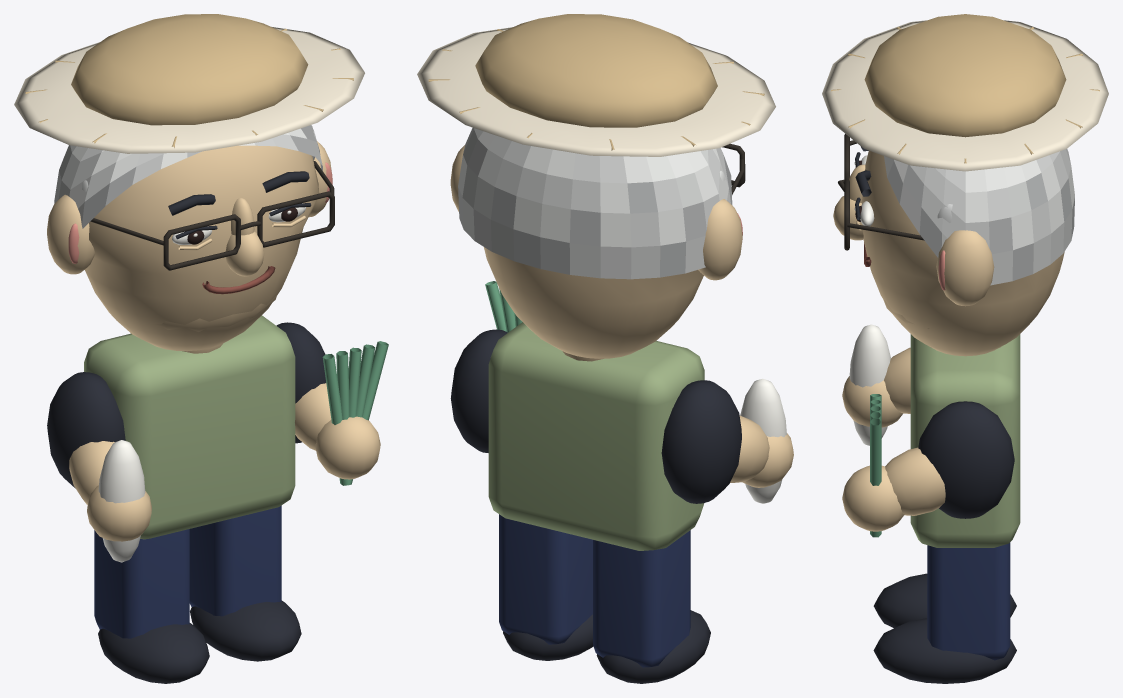
File: longlong-13.glb
3 renders of one model, left to right at view 1: azimuth 30°, elevation 25°; view 2: azimuth 150°, elevation 25°; view 3: azimuth 270°, elevation 25°, orthographic. The views are drawn at different scales.
Visible parts, largest first — view 1: Trousers, Task21 spectacles -1, Trousers.039, Side-swept hair, Side-swept hair.004; view 2: Trousers, Trousers.039, Side-swept hair, Side-swept hair.004; view 3: Trousers, Trousers.039, Side-swept hair, Side-swept hair.004, Task21 spectacles -1.
Part boxes in pixels (x1,y1,x2,y2): Trousers: (14,14,388,683); Task21 spectacles -1: (90,161,334,270); Trousers.039: (54,125,322,203); Side-swept hair: (61,128,306,224); Side-swept hair.004: (54,126,322,228); Trousers: (417,14,793,683); Trousers.039: (462,128,728,279); Side-swept hair: (458,128,730,247); Side-swept hair.004: (458,139,732,277); Trousers: (822,14,1108,683); Trousers.039: (884,149,1072,285); Side-swept hair: (894,159,1074,250); Side-swept hair.004: (887,161,1074,280); Task21 spectacles -1: (838,133,924,250).
Bounding box in the file's own units: 1.62 × 3 × 1.27.
Materials: 5 (1 with a texture image).
